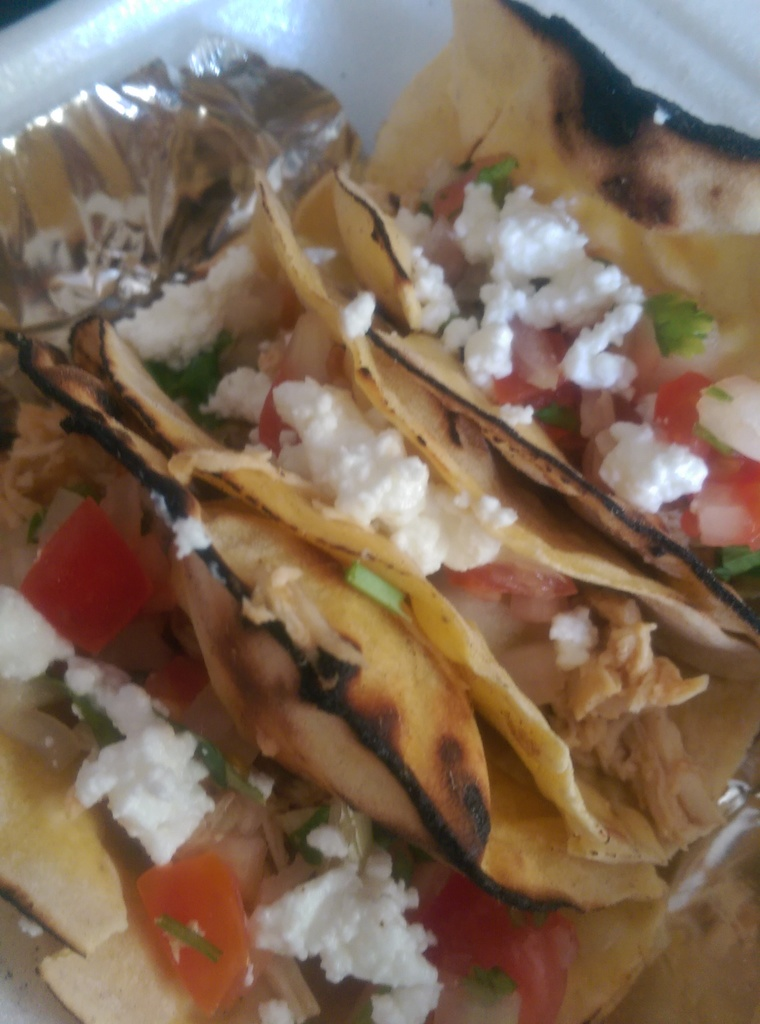taco: (64, 169, 732, 877), (0, 319, 658, 1023), (334, 0, 759, 639)
